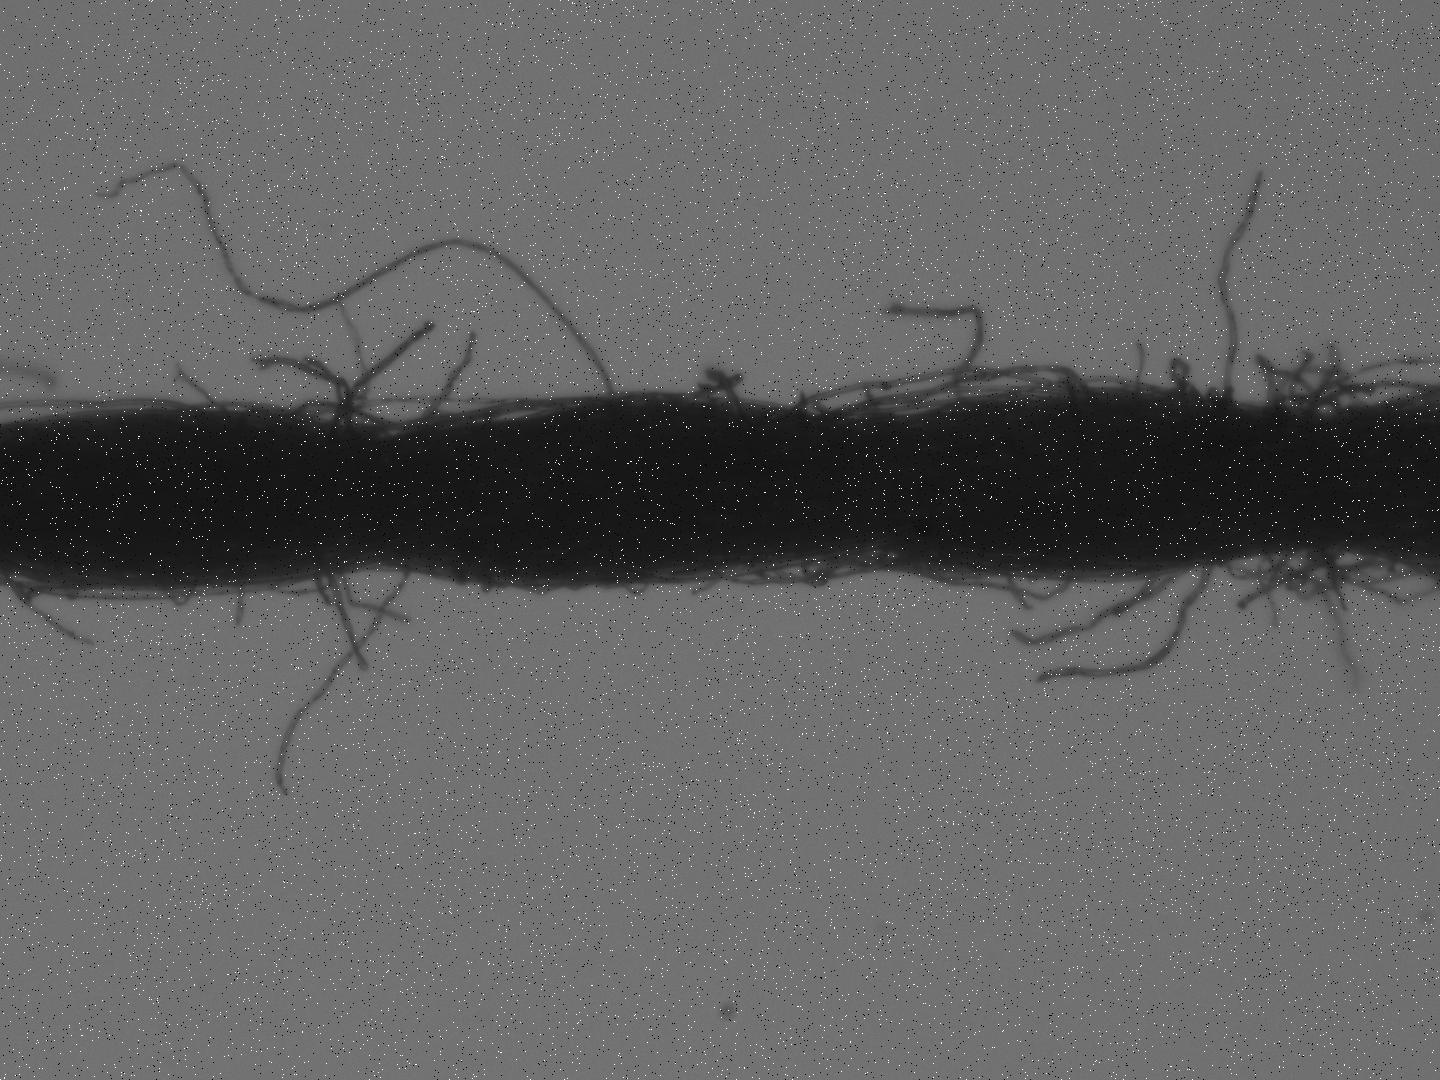loop_fiber: (908, 360, 1096, 408), (1307, 540, 1438, 606), (709, 548, 890, 588), (833, 383, 1044, 416), (1252, 354, 1342, 414), (239, 396, 396, 428), (933, 571, 1073, 604), (1318, 378, 1439, 414), (1220, 548, 1298, 582), (156, 581, 202, 609)
protruding_fiber: (1023, 564, 1220, 693), (1217, 166, 1276, 414), (325, 556, 374, 676)
